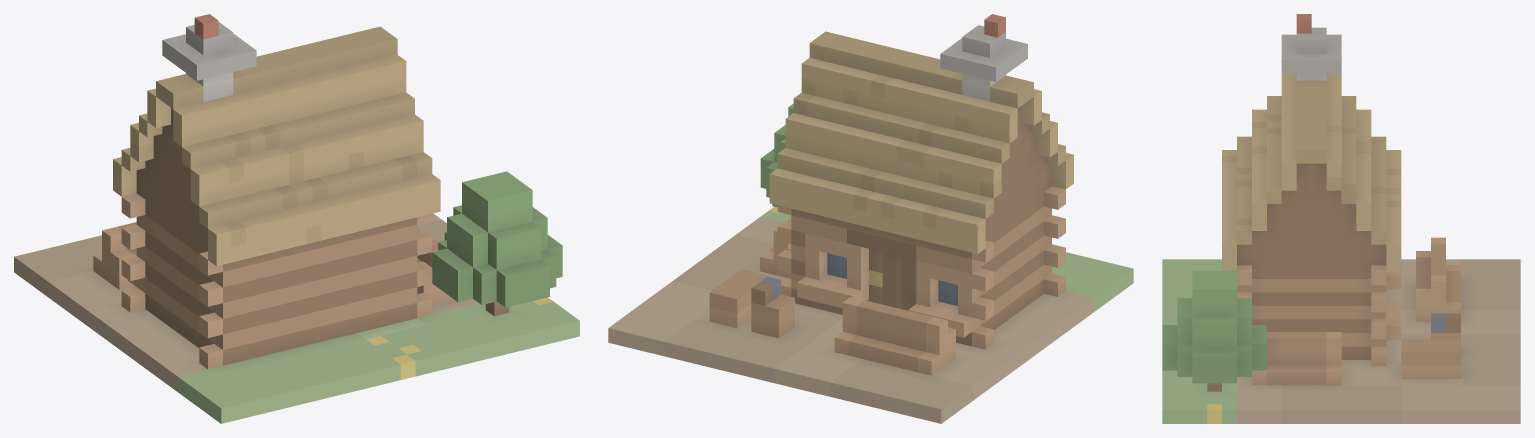
File: lumberjack.glb
3 renders of one model, left to right at view 1: azimuth 30°, elevation 25°; view 2: azimuth 150°, elevation 25°; view 3: azimuth 270°, elevation 25°, orthographic. The views are drawn at different scales.
Parts seen in each view (by area): view 1: lumberjack; view 2: lumberjack; view 3: lumberjack.
Part boxes in pixels (bbox=[...]): lumberjack: bbox=[14, 14, 579, 423]; lumberjack: bbox=[608, 14, 1133, 423]; lumberjack: bbox=[1162, 14, 1520, 423].
Bounding box in the file's own units: 3 × 2.62 × 3.
